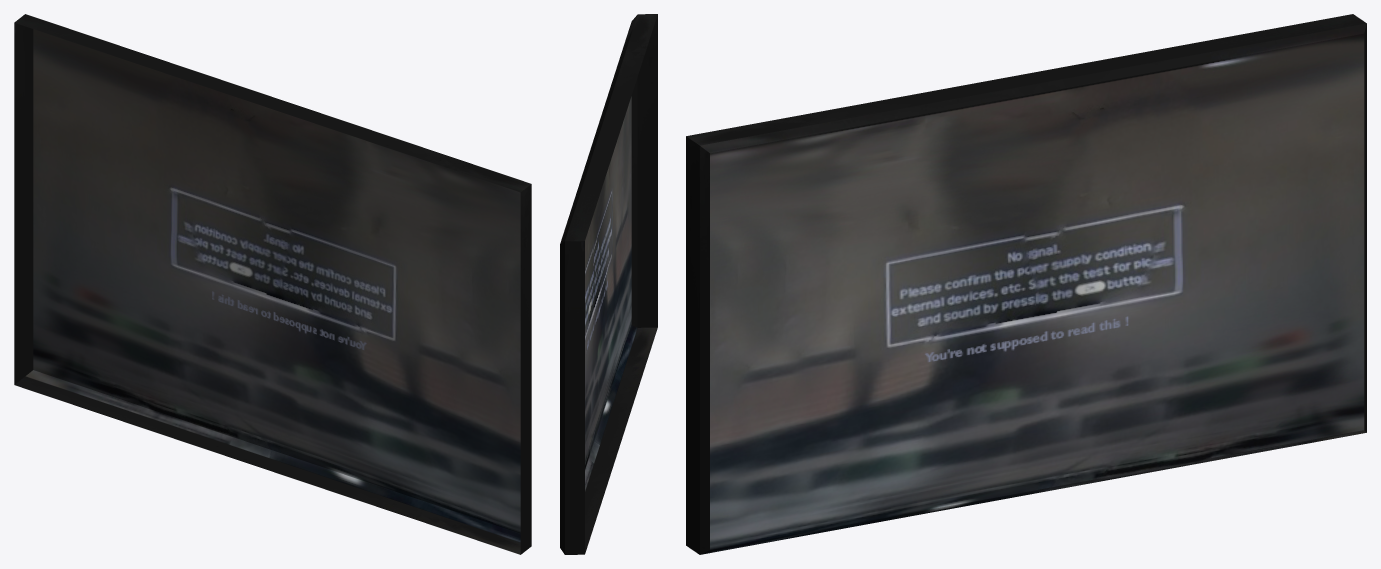
3 views of the same model, side by side, from view 1: azimuth 30°, elevation 25°; view 2: azimuth 150°, elevation 25°; view 3: azimuth 270°, elevation 25° (orthographic). The views are drawn at different scales.
Parts seen in each view (by area): view 1: TV in 102A; view 2: TV in 102A; view 3: TV in 102A.
Part boxes in pixels (<box>): TV in 102A: <box>14,14,531,554</box>; TV in 102A: <box>560,14,657,554</box>; TV in 102A: <box>686,14,1366,554</box>.
Size of the model in its own units: 72.06 by 110 by 163.
1 material, 1 textured.
